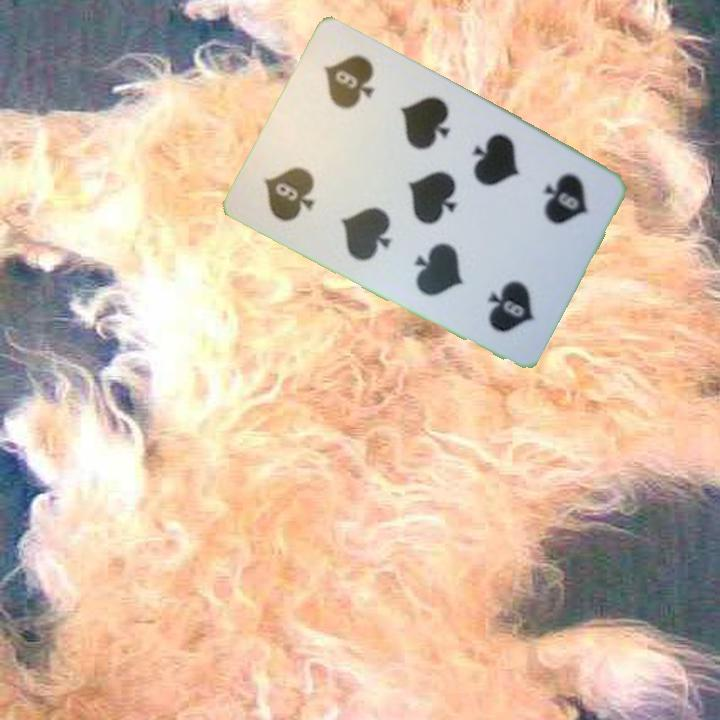s_9.png: (492, 145, 613, 272), (240, 117, 361, 244)
